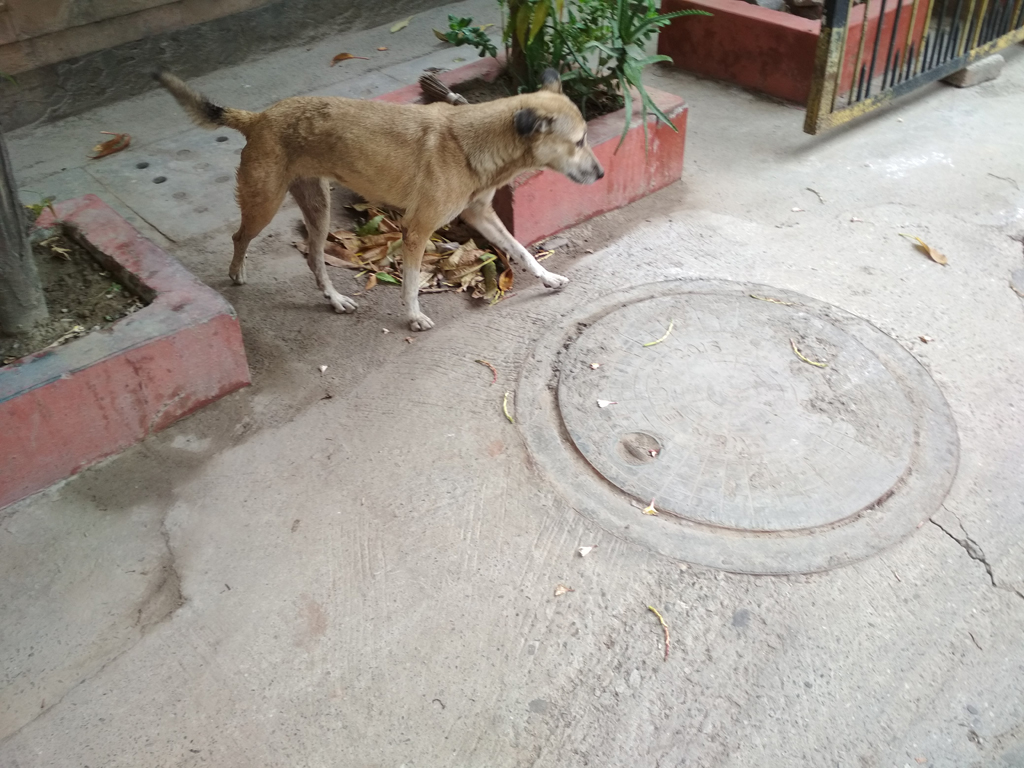dog: (151, 66, 605, 332)
